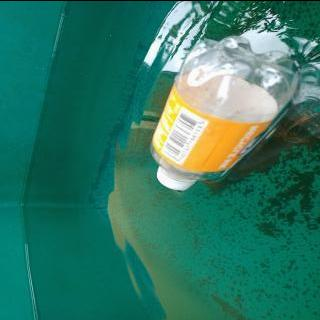bottle: (148, 30, 302, 193)
